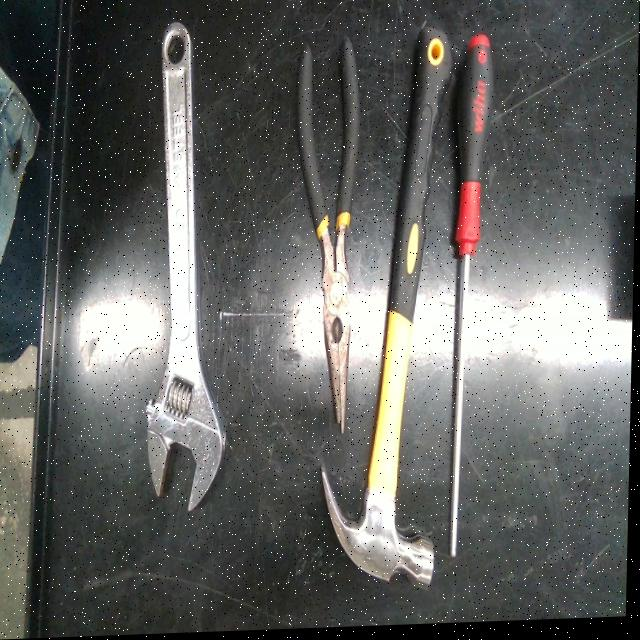Screwdriver: (453, 37, 493, 560)
